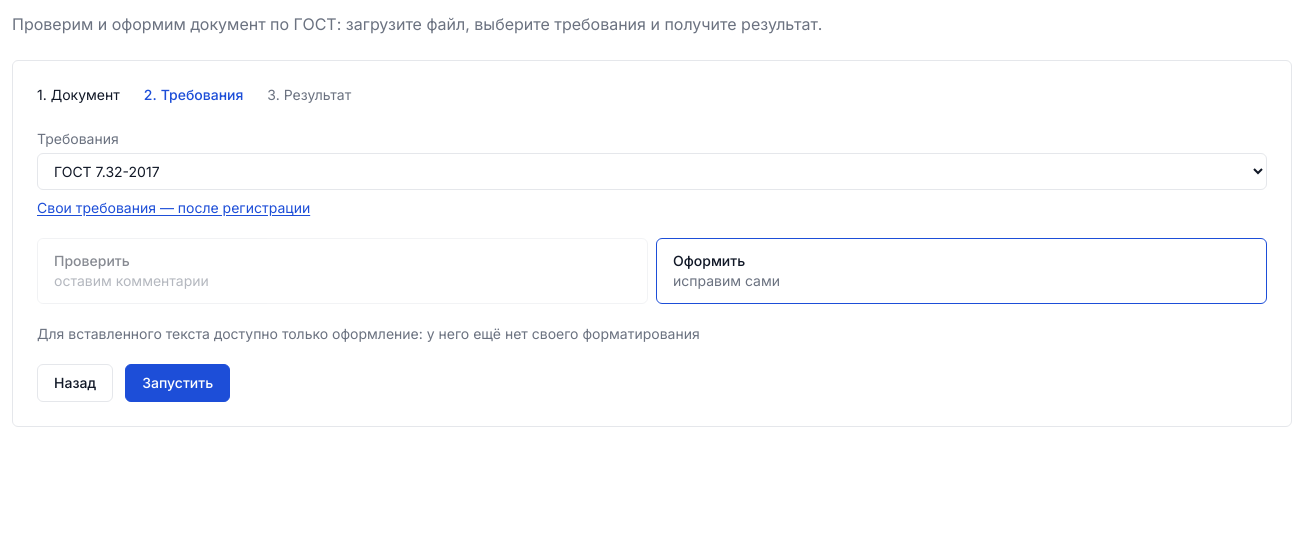
Scenario: Wizard › 429 показывает текст и ссылку «Зарегистрироваться»
The image size is (1292, 542).
Earlier steps of the test are not shown.
Expected: the dropdown labelled "Требования" shows "ГОСТ 7.32-2017", [37,153,1267,190]
What coordinates should you click on to do the following:
click the button "Запустить"
I would click on:
 (178, 383)
Its box is [125,364,230,402].
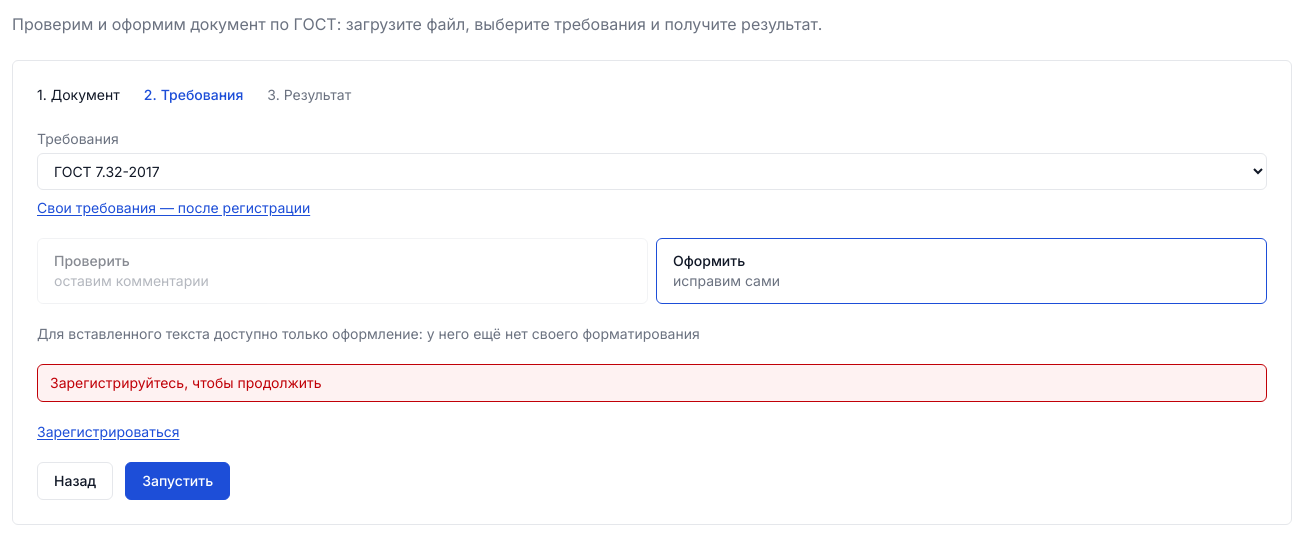
Expected: the button "Запустить" is enabled, [125,462,230,500]
Result: the message reads "Зарегистрируйтесь, чтобы продолжить" at [50,374,322,391]
